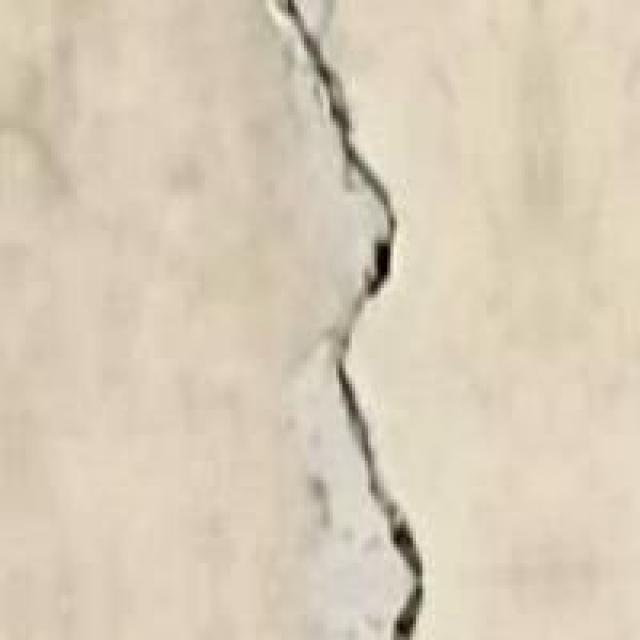crack: (212, 3, 470, 637)
